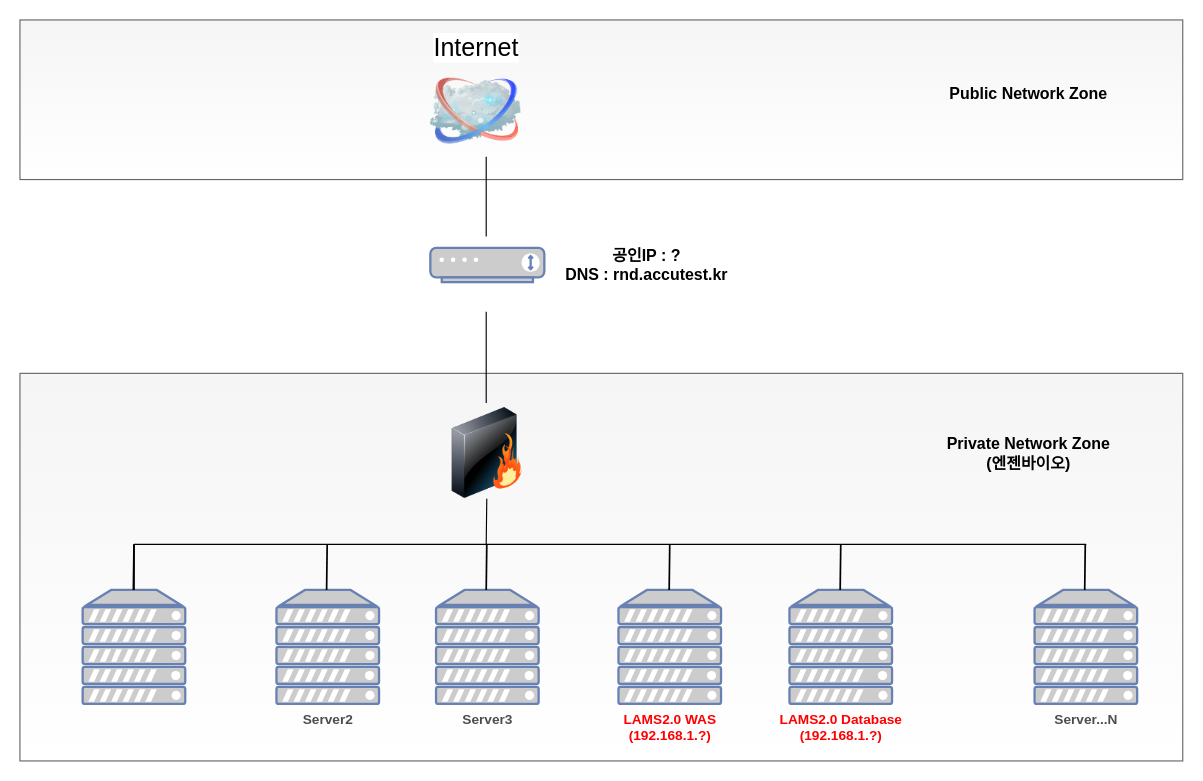
Image size: 1203x781. Some labels were removed from this diagram. The centre of each missing label's shape, as x and y in pixels:
Firewall: pixel 486 452
NAT: pixel 487 264
SW개발본부 LAMS: pixel 133 646
